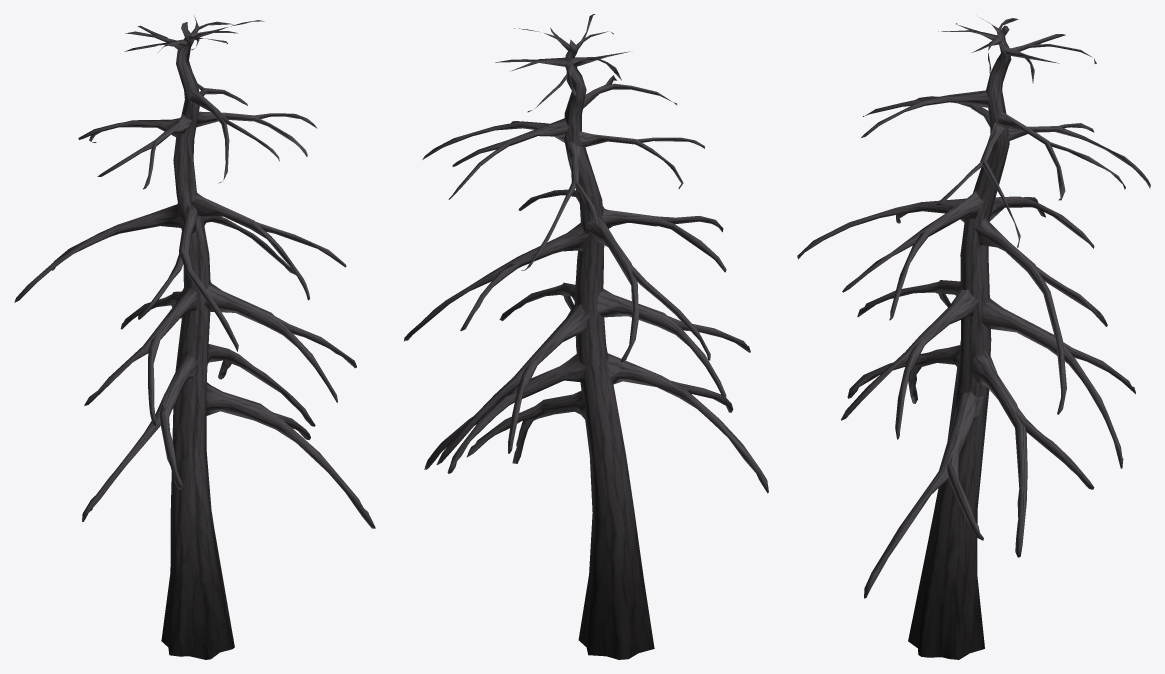
File: deadtree_5.glb
The picture shows the model from 3 angles, left to right: view 1: azimuth 30°, elevation 25°; view 2: azimuth 150°, elevation 25°; view 3: azimuth 270°, elevation 25°; orthographic projection. The views are drawn at different scales.
Parts seen in each view (by area): view 1: DeadTree_5; view 2: DeadTree_5; view 3: DeadTree_5.
Part boxes in pixels (x1,y1,x2,y2): DeadTree_5: [14, 15, 375, 659]; DeadTree_5: [404, 14, 768, 659]; DeadTree_5: [797, 18, 1150, 659].
Size of the model in its own units: 8.35 by 16.43 by 8.4.
1 material, 1 textured.
